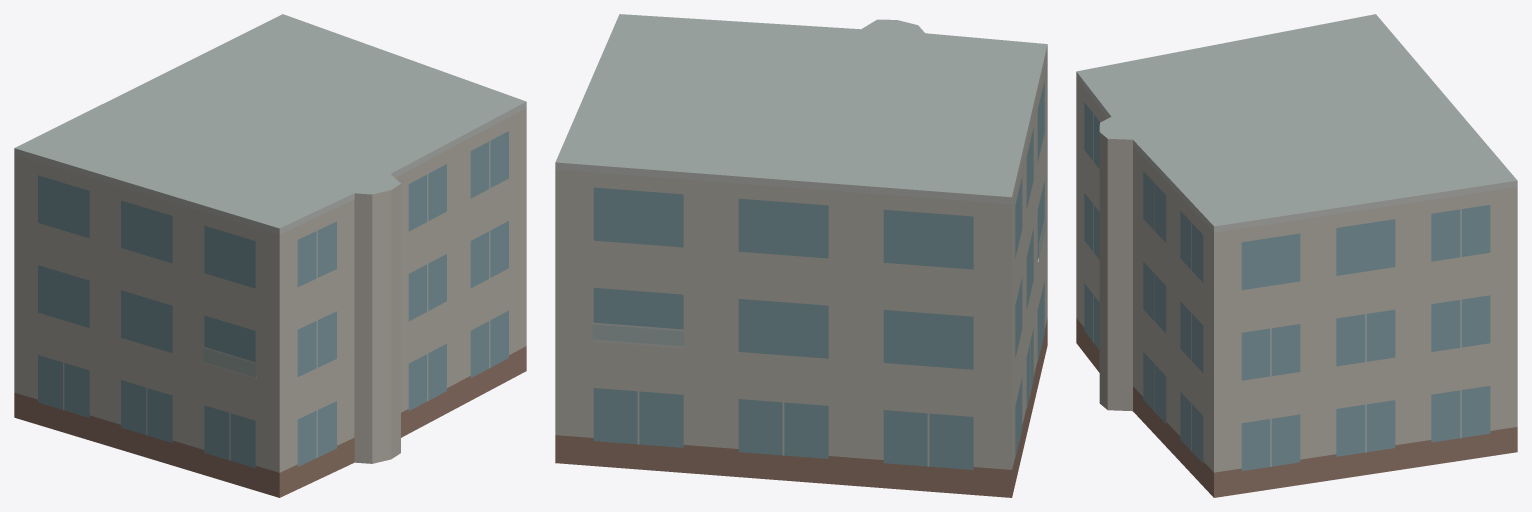
File: survey-upis-32952062.glb
3 views of the same model, side by side, from view 1: azimuth 30°, elevation 25°; view 2: azimuth 150°, elevation 25°; view 3: azimuth 270°, elevation 25° (orthographic). The views are drawn at different scales.
Visible parts, largest first — view 1: survey-upis-32952062.tmp; view 2: survey-upis-32952062.tmp; view 3: survey-upis-32952062.tmp.
Part boxes in pixels (x1,y1,x2,y2): survey-upis-32952062.tmp: (14, 14, 526, 497); survey-upis-32952062.tmp: (555, 14, 1047, 497); survey-upis-32952062.tmp: (1076, 14, 1517, 497).
Size of the model in its own units: 17.8 by 10.6 by 15.63.
